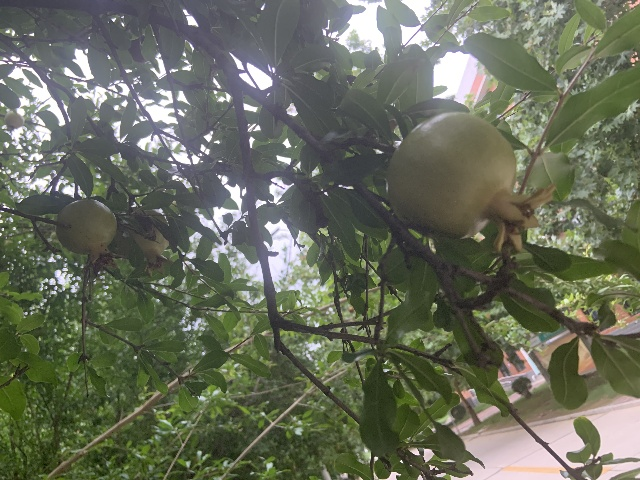mid-growth: (386, 111, 556, 254), (56, 199, 123, 272), (132, 210, 169, 277), (4, 111, 24, 133)
